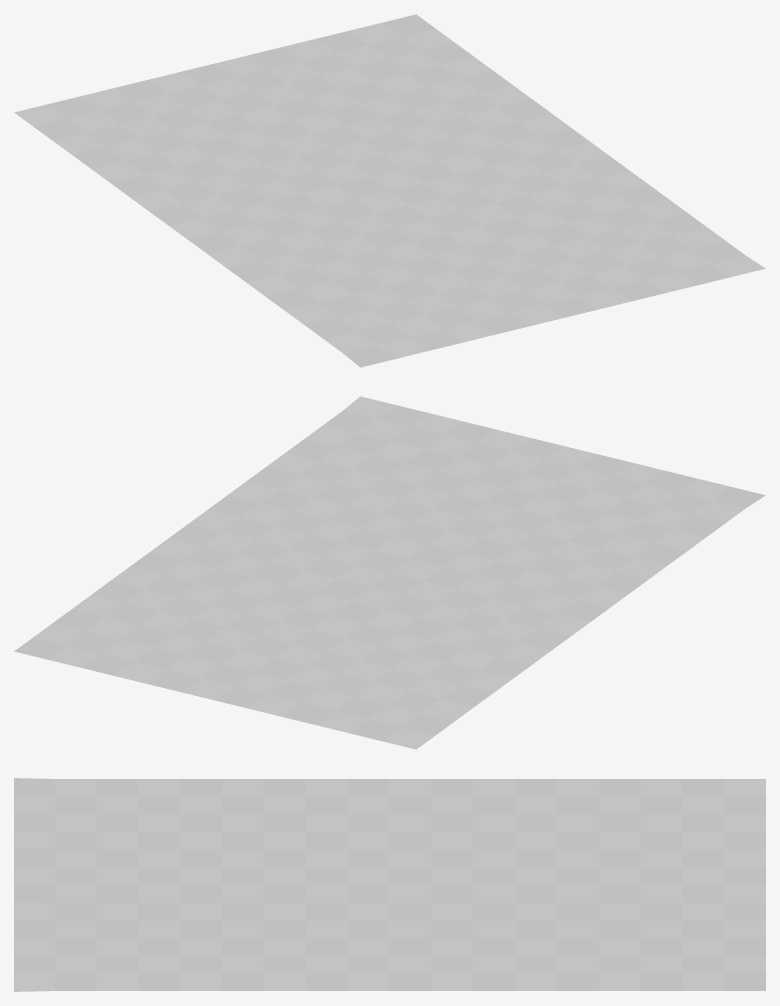
The model's file is Graund_Grey.fbx.
3 renders of one model, top to bottom at view 1: azimuth 30°, elevation 25°; view 2: azimuth 150°, elevation 25°; view 3: azimuth 270°, elevation 25°, orthographic. The views are drawn at different scales.
Parts seen in each view (by area): view 1: Graund.2; view 2: Graund.2; view 3: Graund.2.
Boxes of the visible parts, x1,y1,x2,y2 form: Graund.2: (14,14,765,367); Graund.2: (14,396,765,749); Graund.2: (14,778,765,991).
Size of the model in its own units: 880 by 0.000264 by 1308.
Materials: 1 (1 with a texture image).
